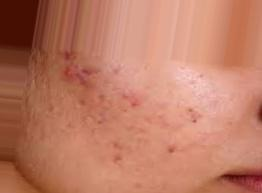Acne: (27, 52, 208, 164)
